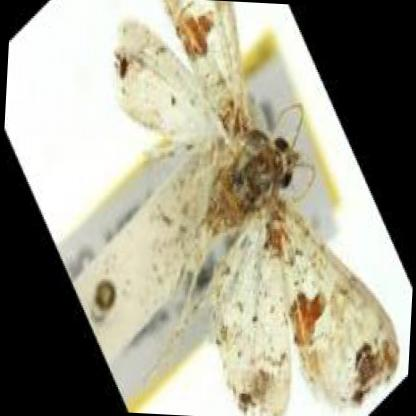leucinodes: (116, 7, 395, 416)
